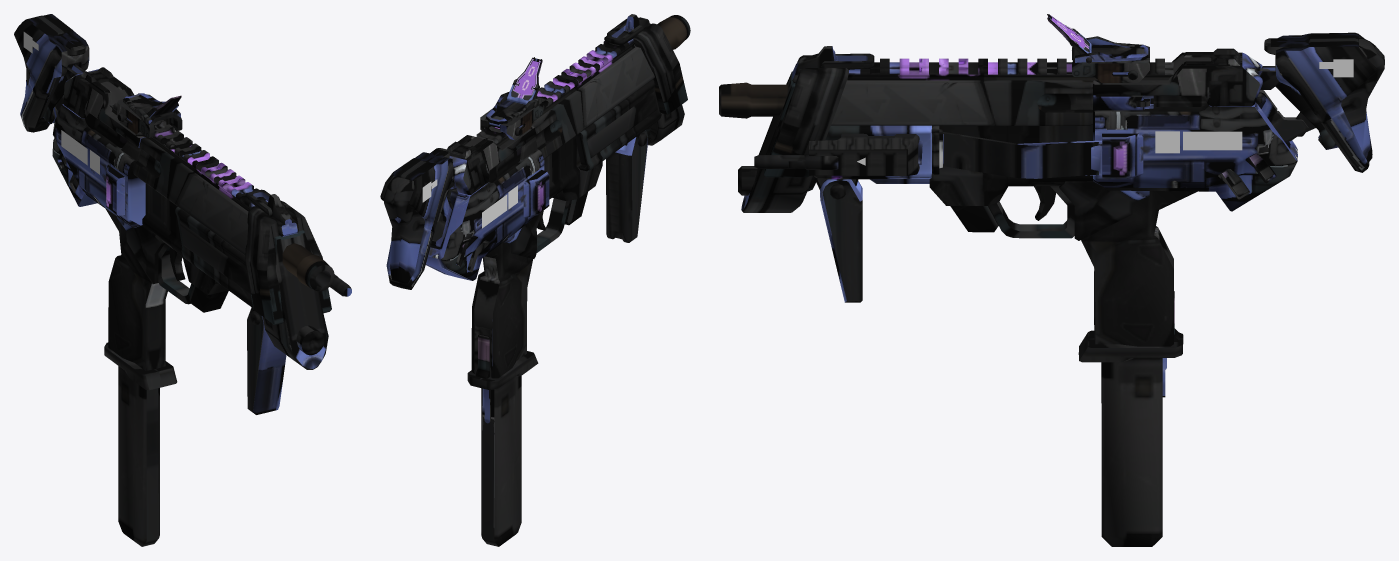
The model's file is dva_weapon.obj.
3 views of the same model, side by side, from view 1: azimuth 30°, elevation 25°; view 2: azimuth 150°, elevation 25°; view 3: azimuth 270°, elevation 25° (orthographic). The views are drawn at different scales.
Parts seen in each view (by area): view 1: Submesh_9.1.8444E824C35587F6.001, Submesh_8.1.7609BDE1C843F8C6.001; view 2: Submesh_9.1.8444E824C35587F6.001, Submesh_8.1.7609BDE1C843F8C6.001, Submesh_2.1.B51E5AFD27A23946.001; view 3: Submesh_9.1.8444E824C35587F6.001, Submesh_8.1.7609BDE1C843F8C6.001.
Boxes of the visible parts, x1,y1,x2,y2 form: Submesh_9.1.8444E824C35587F6.001: [14, 14, 351, 546]; Submesh_8.1.7609BDE1C843F8C6.001: [23, 32, 99, 174]; Submesh_9.1.8444E824C35587F6.001: [380, 14, 690, 546]; Submesh_8.1.7609BDE1C843F8C6.001: [422, 179, 517, 228]; Submesh_2.1.B51E5AFD27A23946.001: [513, 59, 540, 98]; Submesh_9.1.8444E824C35587F6.001: [719, 14, 1384, 546]; Submesh_8.1.7609BDE1C843F8C6.001: [857, 59, 1353, 165].
Size of the model in its own units: 0.0601 by 0.3266 by 0.3738.
